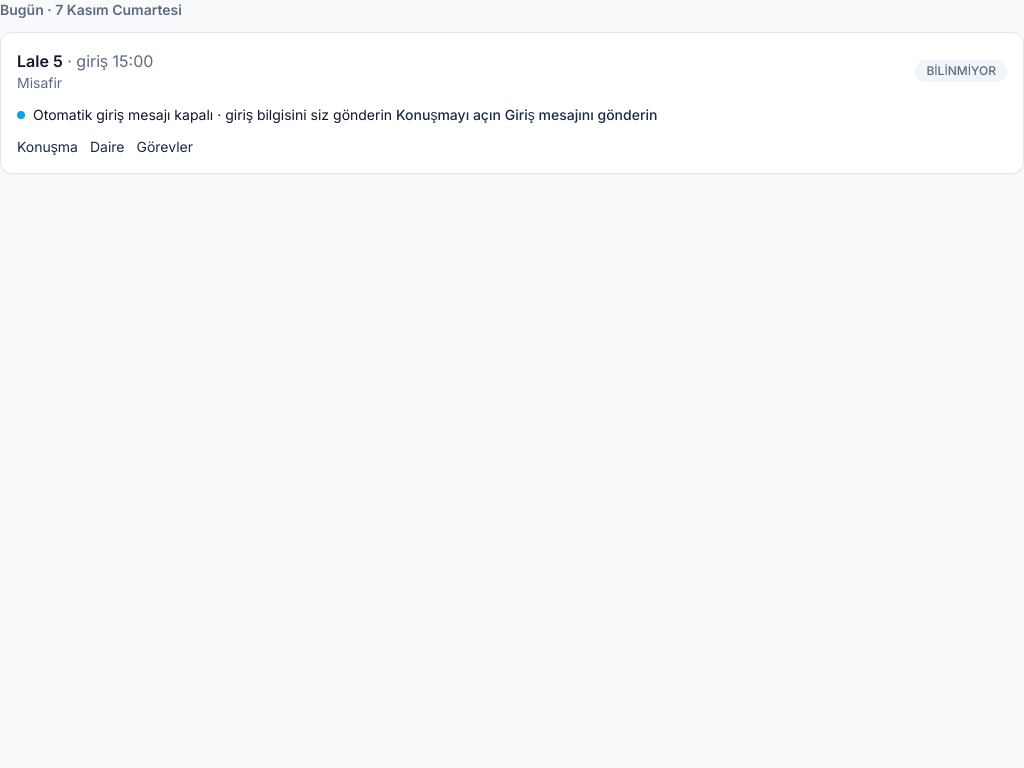
it: Girişler — giriş mesajını elle gönderme › belirsiz teslim → 'ulaşmış olabilir' uyarısı, yeniden gönder düğmesi YOK
The image size is (1024, 768).
Click the button "Giriş mesajını gönderin" at (581, 115), box x1=505 y1=105 x2=657 y2=125
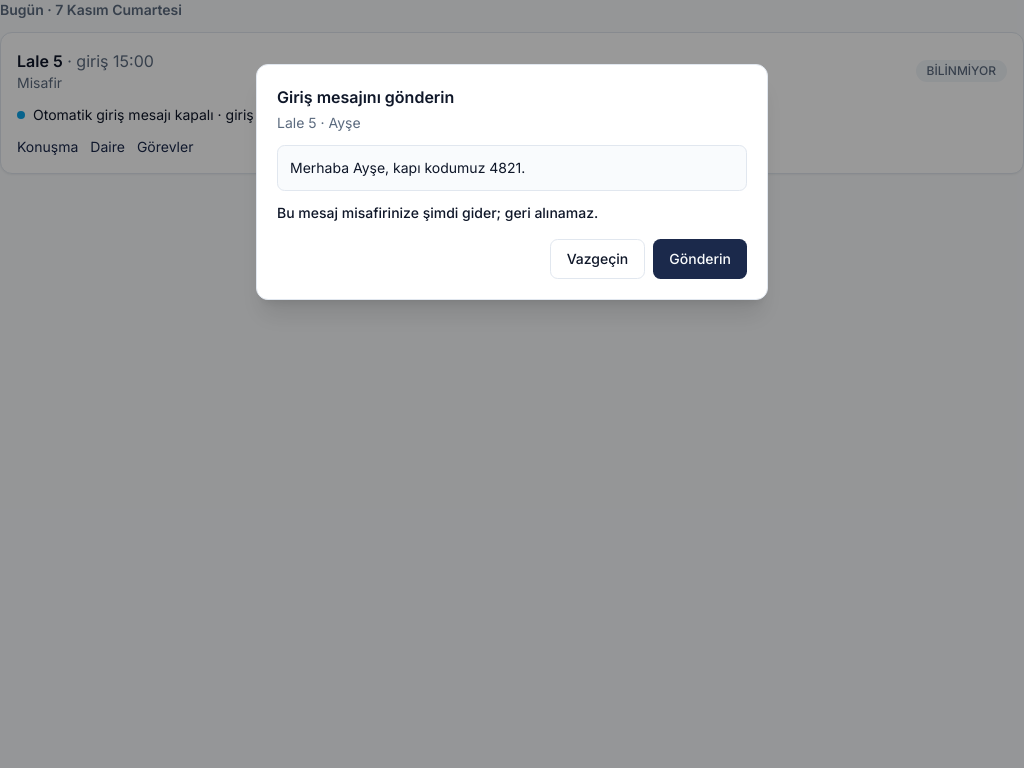
Click the button "Gönderin" at (700, 259), box x1=653 y1=239 x2=747 y2=279
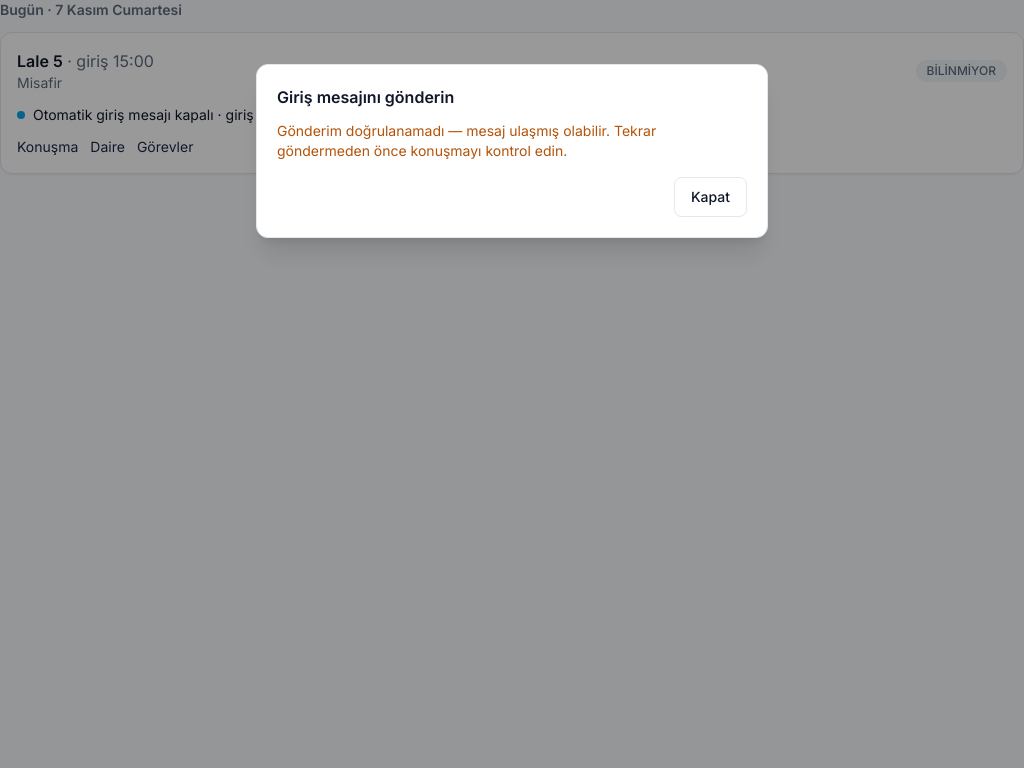
Now the message shows "Gönderim doğrulanamadı — mesaj ulaşmış olabilir. Tekrar göndermeden önce konuşmayı kontrol edin.", box x1=277 y1=122 x2=656 y2=159
